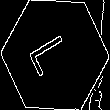L_NE: (29, 30, 81, 80)
